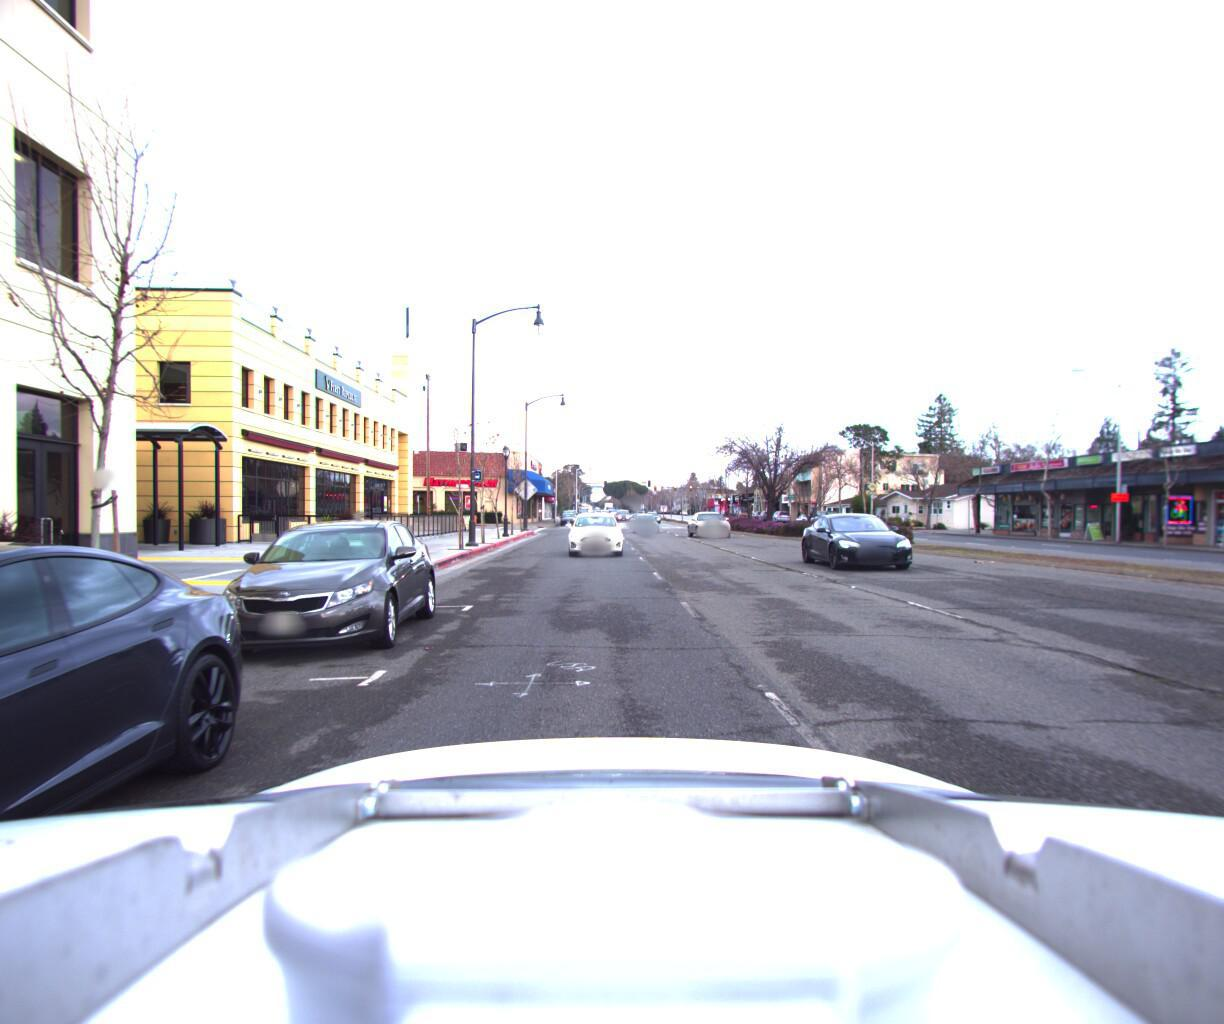car: (186, 511, 451, 668), (804, 506, 946, 571), (560, 501, 630, 555), (688, 507, 737, 535), (631, 509, 658, 530), (559, 508, 576, 522)
